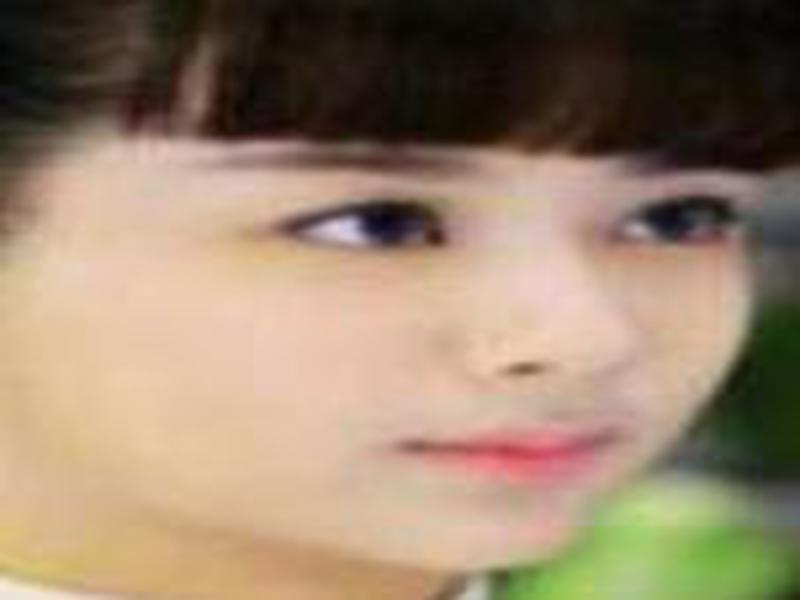without_mask: (8, 116, 765, 572)
